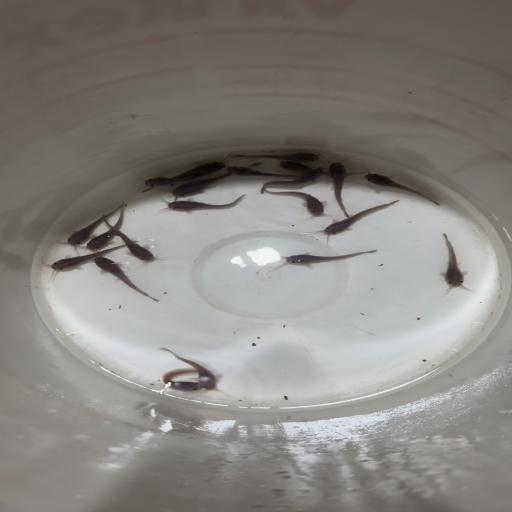lele: (164, 162, 262, 201), (317, 199, 402, 242), (92, 256, 160, 303), (54, 203, 124, 248), (39, 246, 126, 280), (362, 170, 444, 206), (158, 346, 222, 391), (100, 214, 160, 262), (82, 202, 131, 252), (270, 248, 380, 270), (432, 232, 472, 292), (157, 194, 249, 216), (259, 189, 327, 218), (323, 161, 357, 218), (254, 167, 326, 193), (136, 170, 214, 190), (229, 147, 322, 163), (174, 158, 226, 184), (157, 364, 201, 394), (275, 162, 369, 176), (228, 164, 295, 179)
